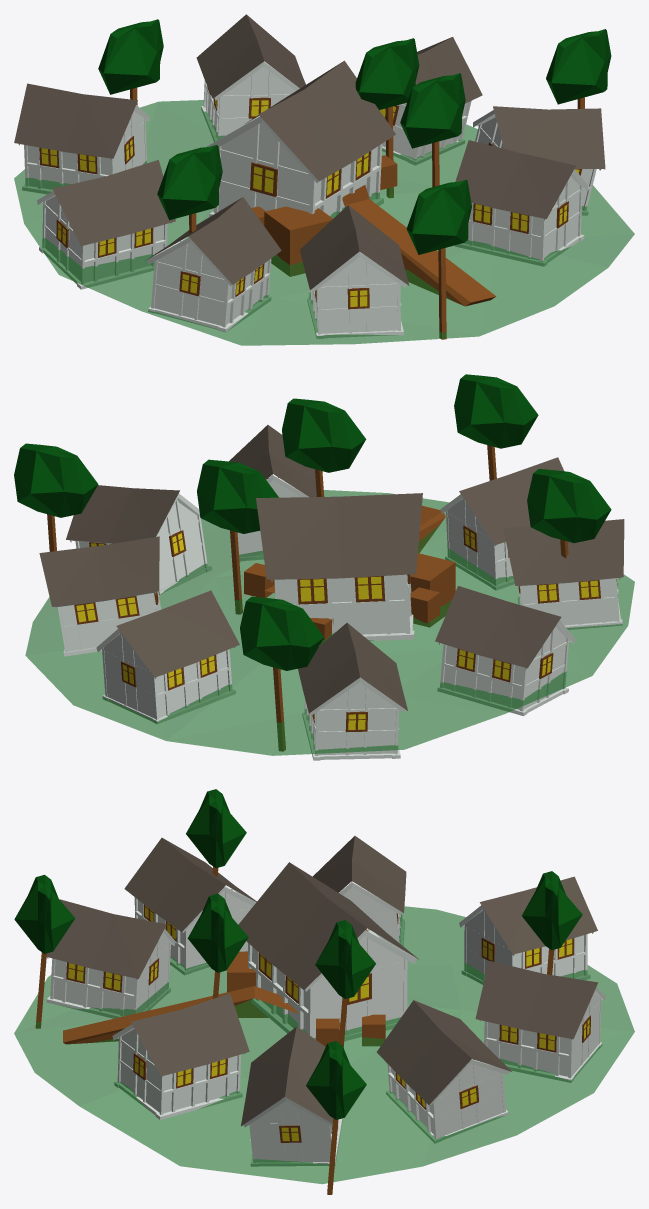
Rendered from city_european_0.glb.
3 views of the same model, one above another, from view 1: azimuth 30°, elevation 25°; view 2: azimuth 150°, elevation 25°; view 3: azimuth 270°, elevation 25° (orthographic). The views are drawn at different scales.
Visible parts, largest first — view 1: Grass, WindowsDoubleHigh2Frame_004.004, WindowsDoubleHigh2Frame_004.005, WindowsDoubleHigh2Frame_004.003, WindowsDoubleHigh2Frame_004.008, WindowsDoubleHigh2Frame_004.001, WindowsDoubleHigh2Frame_004.002, WindowsDoubleHigh2Frame_004.006, WindowsDoubleHigh2Frame_004.007, Crate.011, Crate.006, Crate.016 (+7 smaller); view 2: Grass, WindowsDoubleHigh2Frame_004.004, WindowsDoubleHigh2Frame_004.006, WindowsDoubleHigh2Frame_004.005, WindowsDoubleHigh2Frame_004.001, WindowsDoubleHigh2Frame_004.000, WindowsDoubleHigh2Frame_004.008, WindowsDoubleHigh2Frame_004.007, WindowsDoubleHigh2Frame_004.002, Crate.009, Crate.007, Crate.011 (+8 smaller); view 3: Grass, WindowsDoubleHigh2Frame_004.004, WindowsDoubleHigh2Frame_004.000, WindowsDoubleHigh2Frame_004.003, WindowsDoubleHigh2Frame_004.006, WindowsDoubleHigh2Frame_004.002, WindowsDoubleHigh2Frame_004.007, WindowsDoubleHigh2Frame_004.008, WindowsDoubleHigh2Frame_004.001, WindowsDoubleHigh2Frame_004.005, Crate.007, Crate.011 (+8 smaller).
Part boxes in pixels (box(x1,y1,x2,y2)): Grass: box(14, 100, 634, 345); WindowsDoubleHigh2Frame_004.004: box(206, 60, 395, 218); WindowsDoubleHigh2Frame_004.005: box(37, 160, 175, 289); WindowsDoubleHigh2Frame_004.003: box(455, 140, 588, 266); WindowsDoubleHigh2Frame_004.008: box(145, 197, 281, 332); WindowsDoubleHigh2Frame_004.001: box(14, 83, 149, 193); WindowsDoubleHigh2Frame_004.002: box(300, 205, 409, 338); WindowsDoubleHigh2Frame_004.006: box(196, 14, 305, 141); WindowsDoubleHigh2Frame_004.007: box(473, 106, 605, 215); Crate.011: box(406, 179, 471, 339); Crate.006: box(342, 185, 496, 306); Crate.016: box(400, 73, 465, 186); Grass: box(25, 490, 634, 755); WindowsDoubleHigh2Frame_004.004: box(256, 493, 422, 640); WindowsDoubleHigh2Frame_004.006: box(96, 590, 239, 723); WindowsDoubleHigh2Frame_004.005: box(435, 586, 575, 716); WindowsDoubleHigh2Frame_004.001: box(298, 623, 407, 760); WindowsDoubleHigh2Frame_004.000: box(39, 536, 161, 656); WindowsDoubleHigh2Frame_004.008: box(503, 519, 624, 629); WindowsDoubleHigh2Frame_004.007: box(66, 485, 211, 594); WindowsDoubleHigh2Frame_004.002: box(440, 457, 563, 590); Crate.009: box(240, 596, 324, 751); Crate.007: box(14, 443, 98, 551); Crate.011: box(454, 374, 538, 480); Grass: box(14, 906, 634, 1184); WindowsDoubleHigh2Frame_004.004: box(238, 862, 419, 1040); WindowsDoubleHigh2Frame_004.000: box(377, 1000, 511, 1143); WindowsDoubleHigh2Frame_004.003: box(112, 993, 249, 1119); WindowsDoubleHigh2Frame_004.006: box(475, 960, 605, 1082); WindowsDoubleHigh2Frame_004.002: box(46, 899, 175, 1018); WindowsDoubleHigh2Frame_004.007: box(241, 1026, 342, 1166); WindowsDoubleHigh2Frame_004.008: box(124, 837, 256, 974); WindowsDoubleHigh2Frame_004.001: box(459, 876, 597, 984); WindowsDoubleHigh2Frame_004.005: box(313, 836, 406, 945); Crate.007: box(306, 1041, 366, 1194); Crate.011: box(14, 874, 75, 1028).
Bounding box in the file's own units: 3.73 × 1.27 × 3.65.
